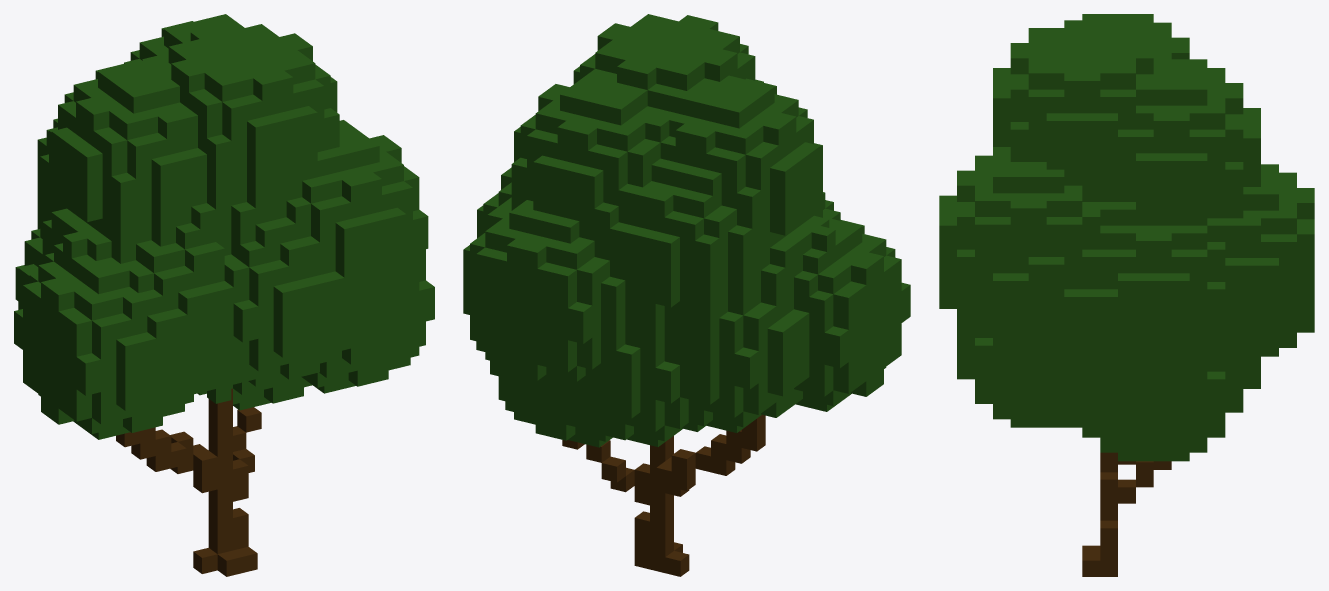
Rendered from bush4bb.obj.
3 renders of one model, left to right at view 1: azimuth 30°, elevation 25°; view 2: azimuth 150°, elevation 25°; view 3: azimuth 270°, elevation 25°, orthographic.
Size of the model in its own units: 2.2 by 3.2 by 2.1.
Materials: 1 (1 with a texture image).
